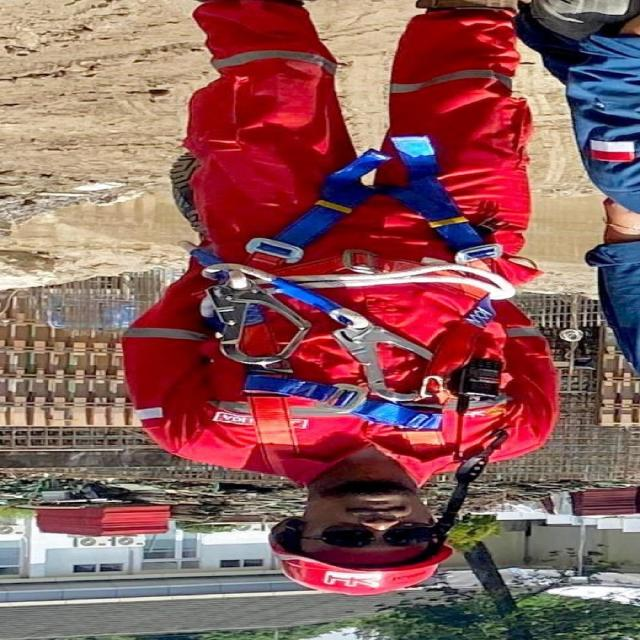safetyhelmet: (274, 482, 456, 594)
